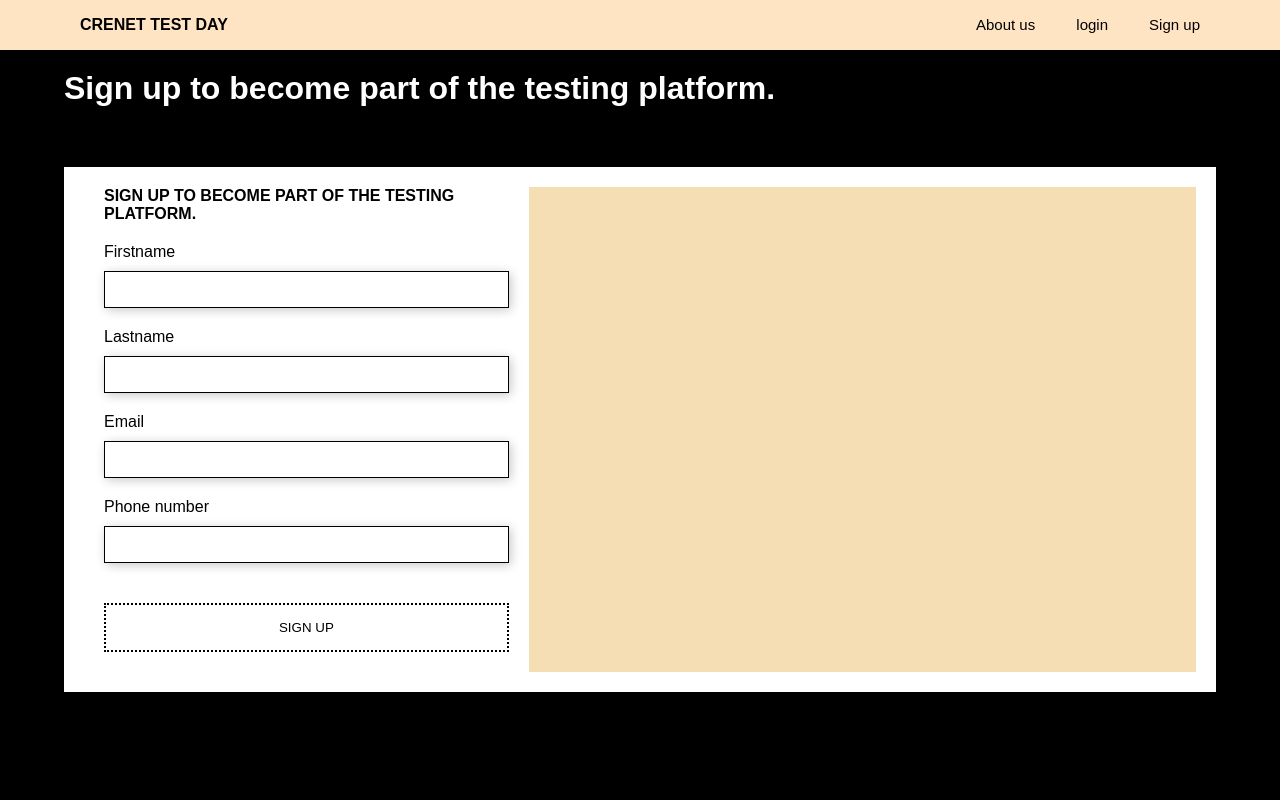
it: Login Test › Fill The form › Try to sign and get error
Step 1. Click the button with class "btn-black" → x=307, y=628, box [104,603,509,652]
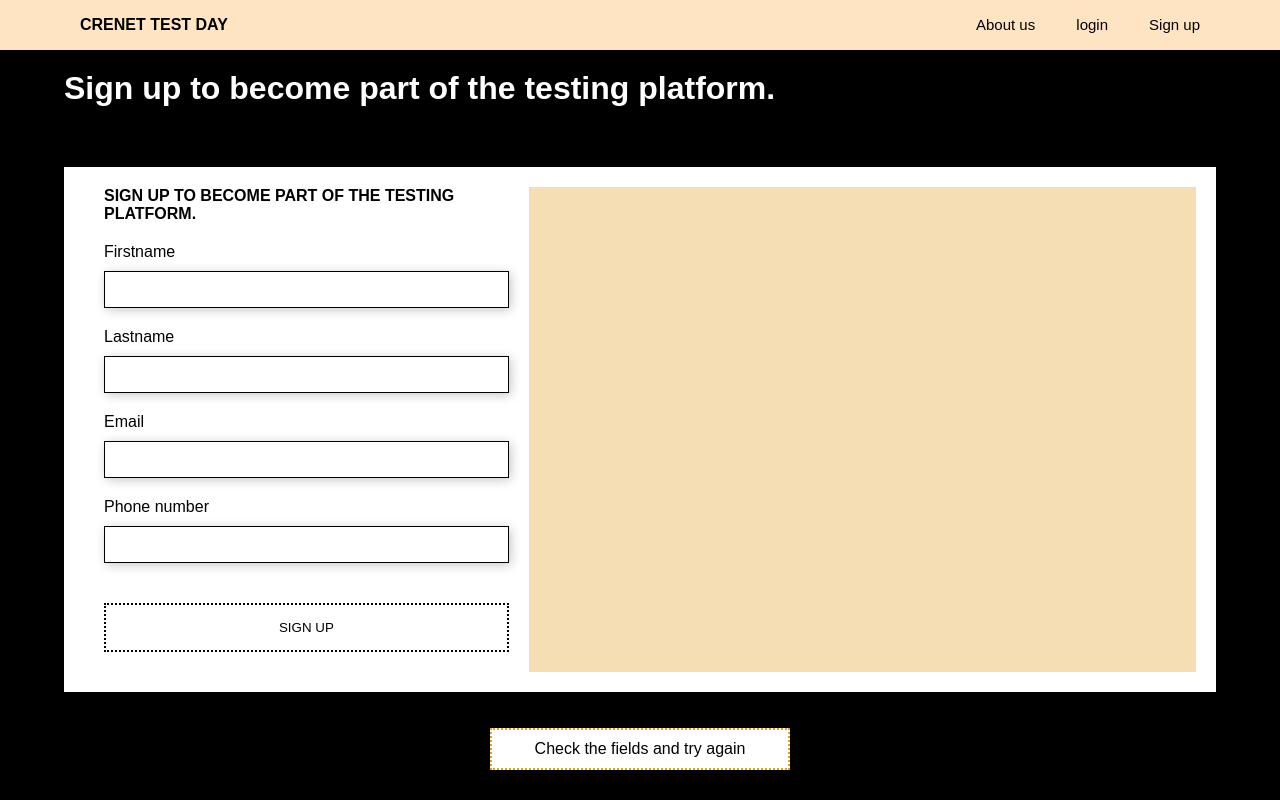
Result: the text with id "snackbar" reads "Check the fields and try again" at [490,728,790,770]
